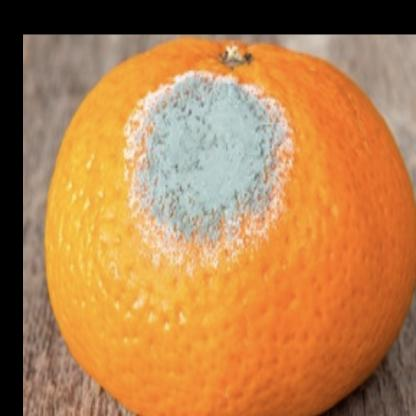rotten: (47, 35, 416, 412)
